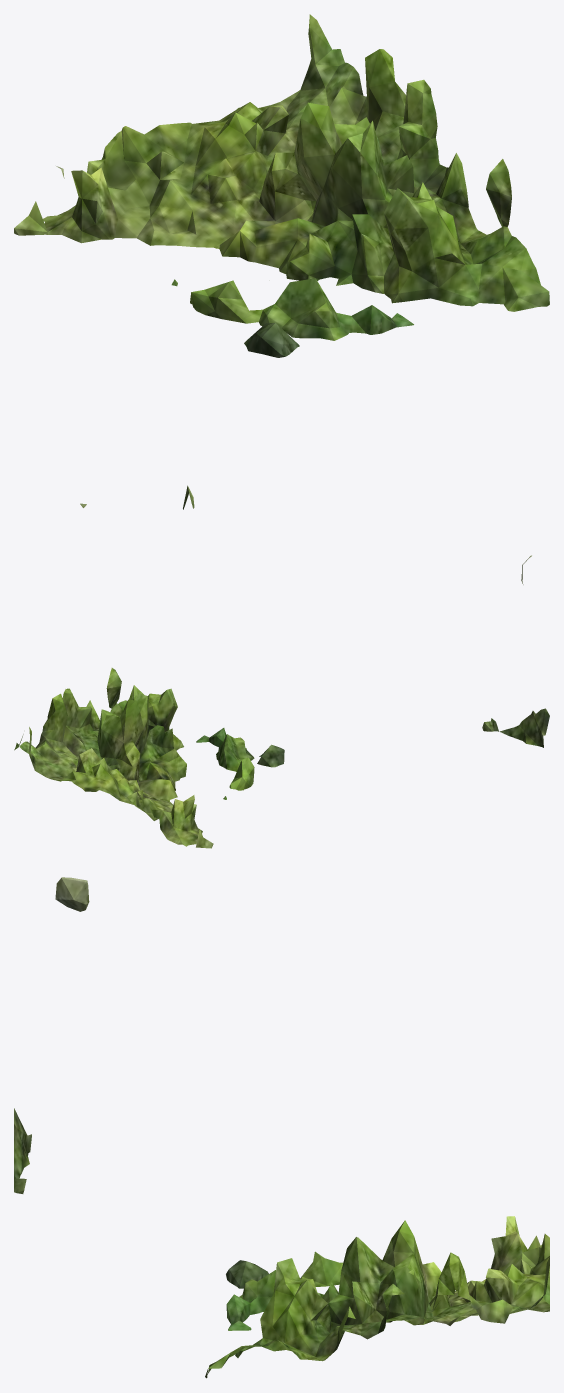
3 renders of one model, top to bottom at view 1: azimuth 30°, elevation 25°; view 2: azimuth 150°, elevation 25°; view 3: azimuth 270°, elevation 25°, orthographic. The views are drawn at different scales.
Bounding box in the file's own units: 26.11 × 14.77 × 26.11.
1 material, 1 textured.
